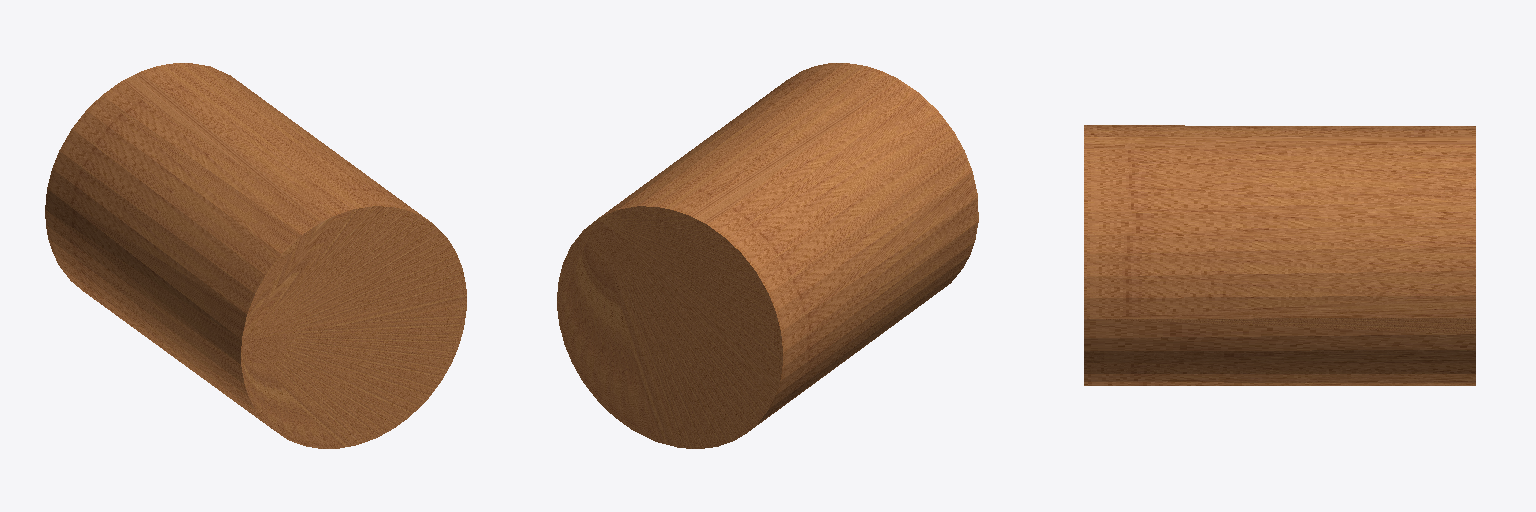
3 renders of one model, left to right at view 1: azimuth 30°, elevation 25°; view 2: azimuth 150°, elevation 25°; view 3: azimuth 270°, elevation 25°, orthographic.
Visible parts, largest first — view 1: cylinder_cylinder.002; view 2: cylinder_cylinder.002; view 3: cylinder_cylinder.002.
Boxes of the visible parts, <box> form: cylinder_cylinder.002: <box>45,63,466,448</box>; cylinder_cylinder.002: <box>557,63,978,448</box>; cylinder_cylinder.002: <box>1084,125,1475,385</box>.
Bounding box in the file's own units: 0.05 × 0.0501 × 0.075.
Materials: 1 (1 with a texture image).